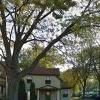Tree: (5, 0, 84, 78)
